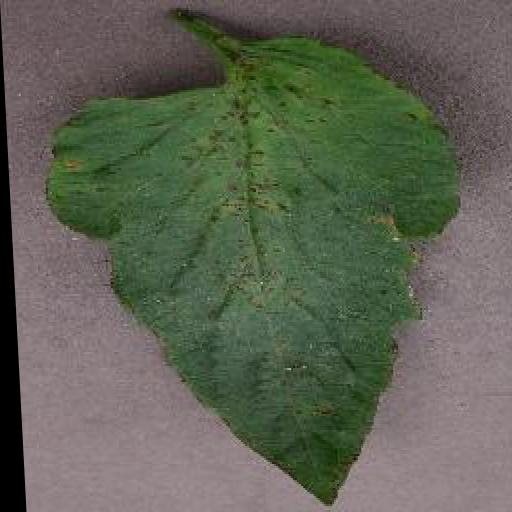Bacterial Spot: (38, 34, 471, 512)
